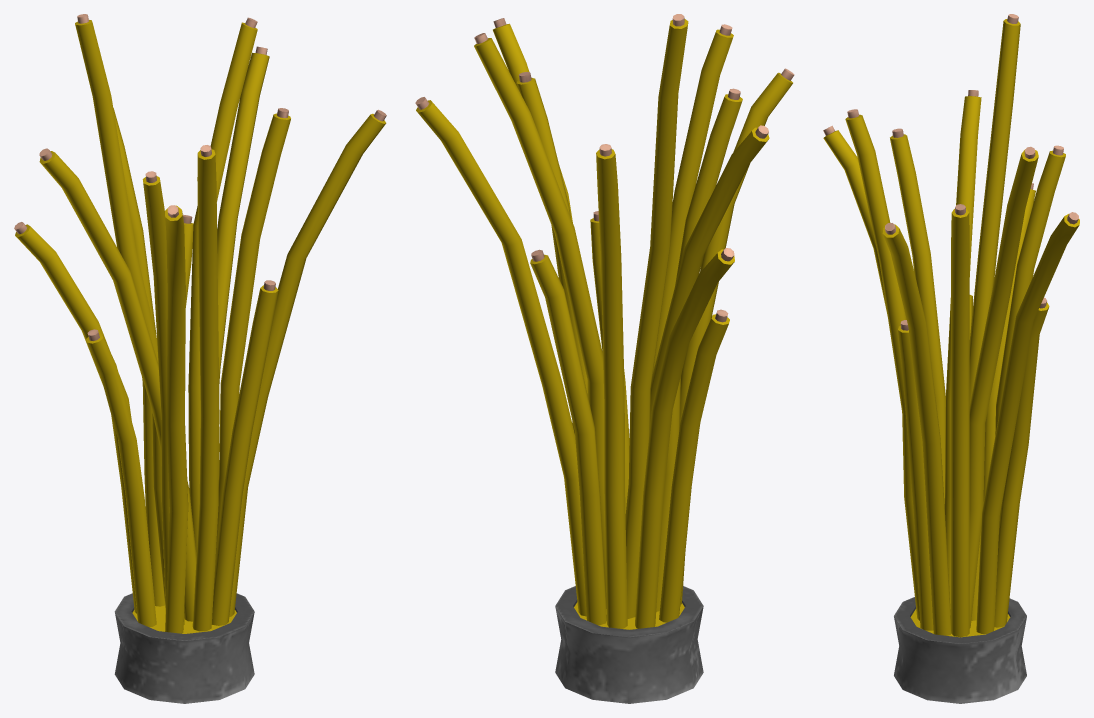
The model's file is ElectricalWires01_11.glb.
The picture shows the model from 3 angles, left to right: view 1: azimuth 30°, elevation 25°; view 2: azimuth 150°, elevation 25°; view 3: azimuth 270°, elevation 25°; orthographic projection. The views are drawn at different scales.
Parts seen in each view (by area): view 1: Circle_020; view 2: Circle_020; view 3: Circle_020.
Boxes of the visible parts, <box> form: Circle_020: <box>14,14,386,703</box>; Circle_020: <box>415,14,794,703</box>; Circle_020: <box>823,14,1079,703</box>.
Size of the model in its own units: 0.1951 by 0.406 by 0.1509.
1 material, 1 textured.
